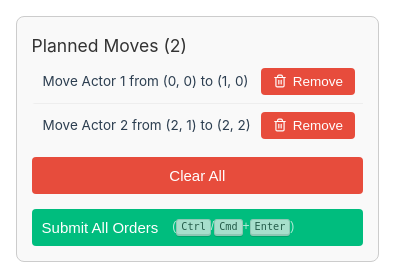
Test: OrderSubmission.vue › Event Emissions › cancels "clear-all" action when "Cancel" is clicked
Click the button with class "clear-all-btn". click: click(197, 175)
box: [32, 157, 363, 194]
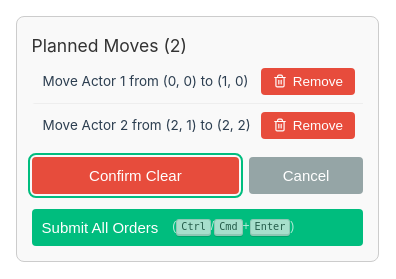
Click the button with class "cancel-btn". click: click(306, 175)
box: [249, 157, 363, 194]
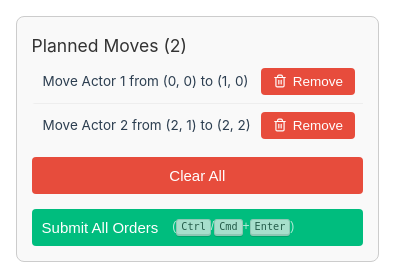
Now the button with class "clear-all-btn" is shown, box [32, 157, 363, 194]
